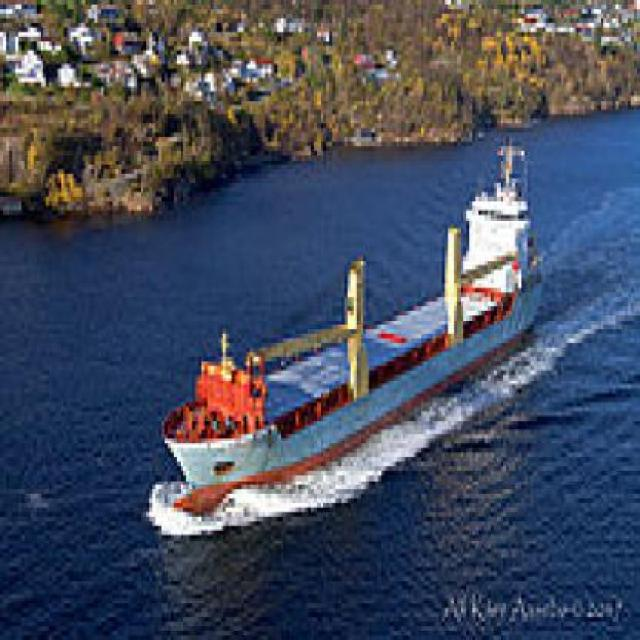container: (153, 138, 571, 499)
